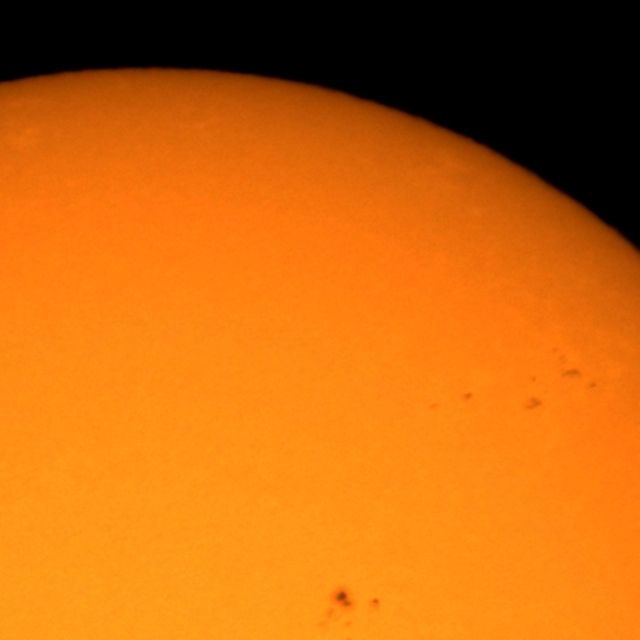sunspot: (550, 344, 584, 382), (326, 588, 354, 630), (559, 367, 599, 392), (332, 588, 354, 611), (523, 394, 544, 413), (461, 390, 475, 403), (369, 596, 381, 608)
